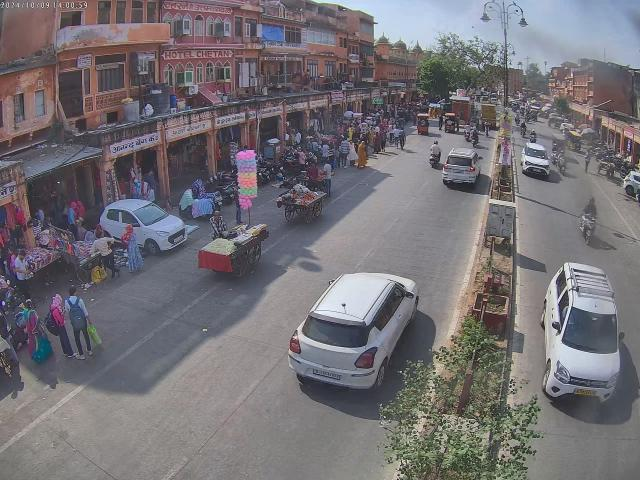auto: (565, 130, 584, 152), (441, 112, 459, 133), (414, 112, 431, 134)
car: (286, 272, 418, 394), (542, 260, 626, 408), (441, 146, 482, 189), (520, 150, 552, 180)
helmet: (434, 140, 438, 145)
license_plate: (313, 370, 340, 379), (576, 389, 596, 397)
motorbike-rider: (0, 327, 19, 387), (465, 126, 480, 146)
person: (27, 304, 54, 364), (65, 197, 86, 226), (30, 206, 48, 231), (338, 139, 352, 166), (139, 179, 155, 200)
scooty: (6, 290, 34, 340)
scooty-rider: (578, 198, 598, 244), (550, 142, 567, 172), (428, 140, 442, 169)
vendor: (197, 223, 267, 280)
